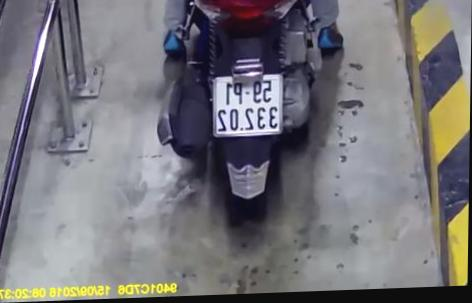License_Plate: (204, 69, 289, 144)
